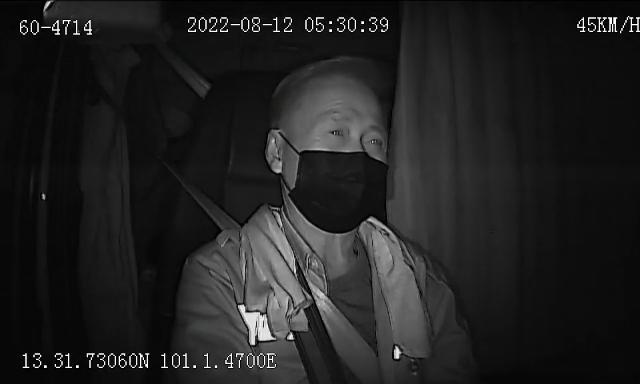SafeDriving: (360, 127, 390, 152), (322, 119, 352, 140)
Seatbelt: (182, 182, 384, 384)
